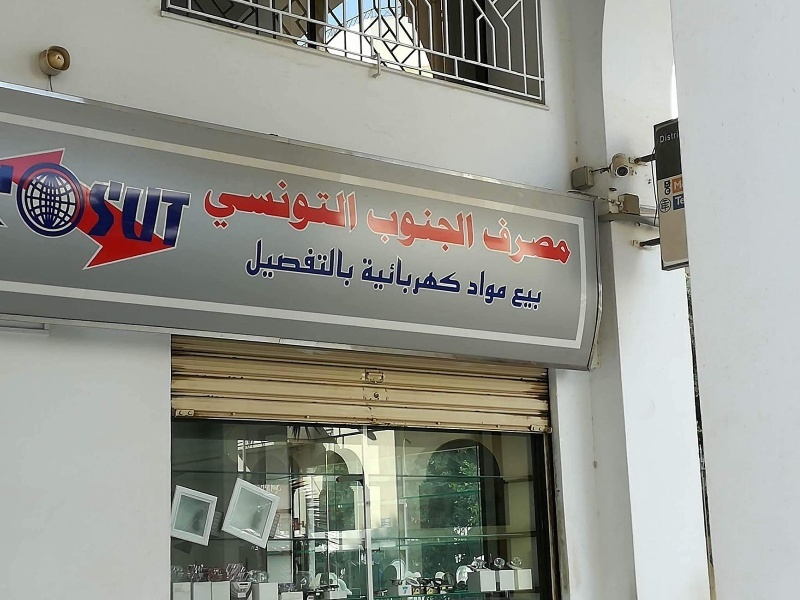text: (97, 178, 112, 250), (113, 178, 128, 250), (129, 178, 144, 250), (145, 178, 160, 250), (161, 178, 176, 250), (177, 178, 192, 250), (369, 204, 384, 263), (385, 204, 400, 263), (401, 204, 416, 263), (417, 204, 432, 263), (433, 204, 448, 263), (449, 204, 464, 263), (209, 177, 224, 235), (225, 177, 240, 235), (241, 177, 256, 235), (257, 177, 272, 235), (273, 177, 288, 235), (289, 177, 304, 235), (305, 177, 320, 235), (321, 177, 336, 235), (337, 177, 352, 235), (481, 211, 496, 267), (497, 211, 512, 267), (513, 211, 528, 267), (529, 211, 544, 267), (545, 211, 560, 267), (257, 236, 272, 289), (273, 236, 288, 289), (289, 236, 304, 289), (305, 236, 320, 289), (321, 236, 336, 289), (337, 236, 352, 289), (369, 249, 384, 299), (385, 249, 400, 299), (401, 249, 416, 299), (417, 249, 432, 299), (433, 249, 448, 299), (86, 178, 96, 250), (465, 204, 477, 263), (449, 249, 463, 299), (353, 177, 364, 235), (561, 211, 572, 267), (481, 270, 496, 307), (466, 270, 480, 307), (497, 270, 508, 307), (360, 249, 368, 299), (513, 287, 528, 312), (249, 236, 256, 289), (529, 287, 543, 312), (673, 179, 688, 193), (675, 194, 688, 207), (660, 130, 672, 144), (193, 178, 195, 250), (257, 484, 272, 492), (366, 204, 368, 263), (206, 177, 208, 235), (353, 236, 355, 289), (673, 130, 680, 144), (273, 484, 282, 492), (479, 211, 480, 267), (254, 484, 256, 492)
